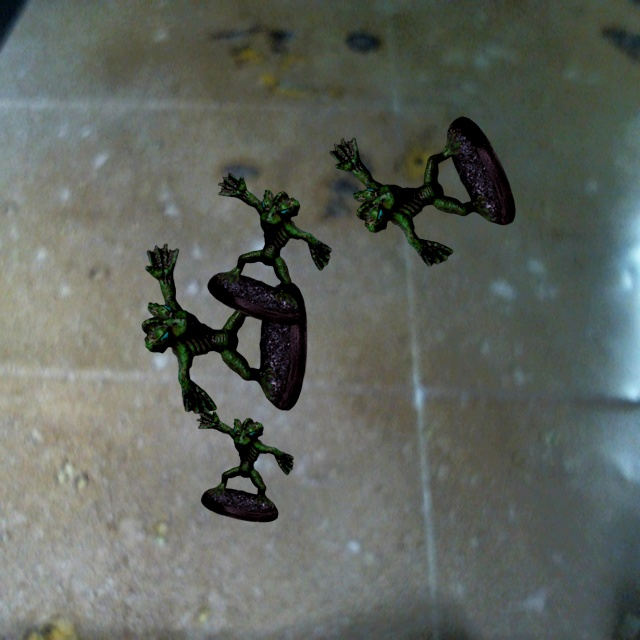pieza_juego: (141, 243, 306, 413), (330, 117, 515, 266), (207, 172, 331, 325), (197, 410, 293, 521)
